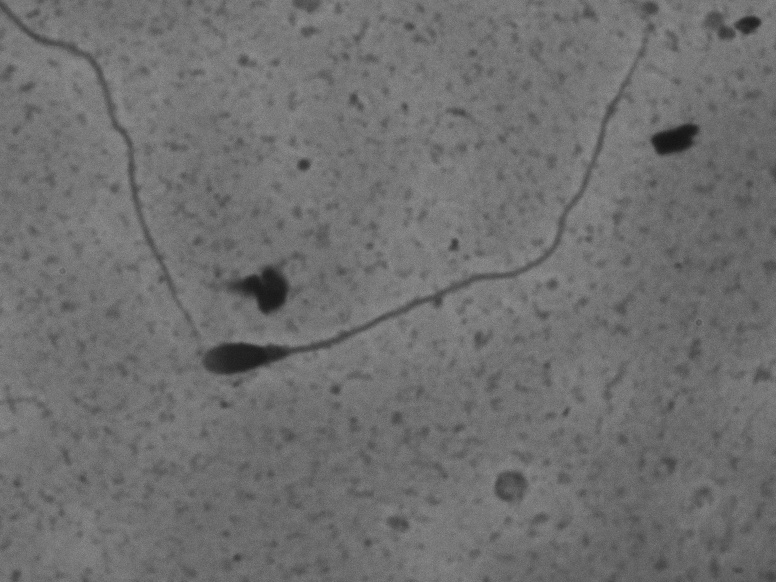Abnormal: (183, 12, 668, 387)
